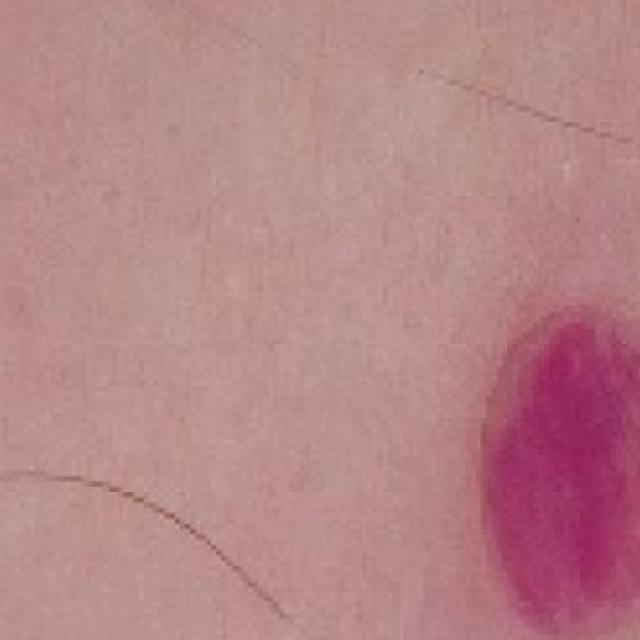VASC: (454, 264, 640, 640)
